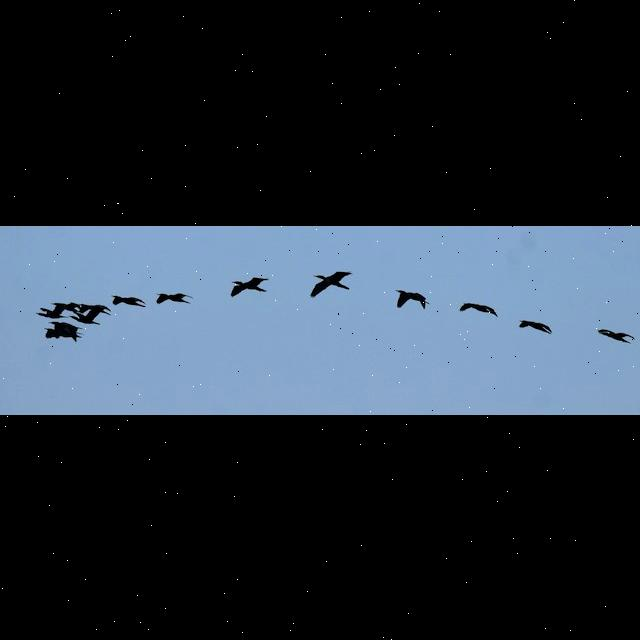cormorant: (306, 269, 356, 299), (225, 274, 271, 300), (392, 288, 431, 312), (594, 326, 638, 346), (456, 301, 504, 319), (516, 318, 556, 336), (155, 292, 195, 308), (111, 294, 147, 308)
